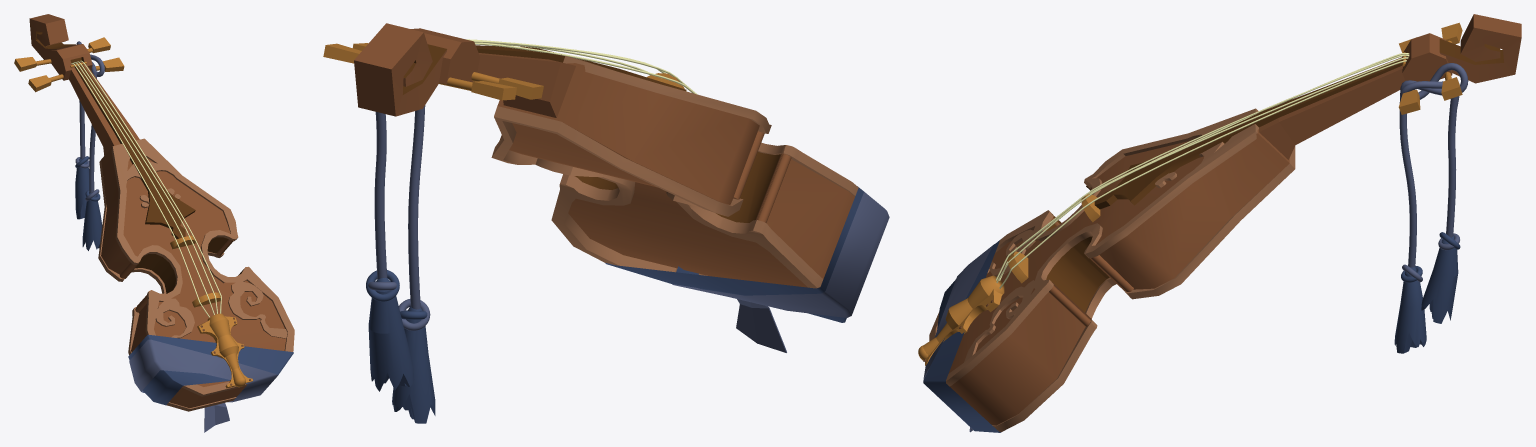
The model's file is violin.gltf.
3 renders of one model, left to right at view 1: azimuth 30°, elevation 25°; view 2: azimuth 150°, elevation 25°; view 3: azimuth 270°, elevation 25°, orthographic. The views are drawn at different scales.
Parts seen in each view (by area): view 1: object 18, object 25, object 31, object 22, object 26, object 29, object 19, object 30, object 21, object 27, object 20, object 10 (+12 smaller); view 2: object 18, object 27, object 21, object 31, object 19, object 7, object 25, object 29, object 10, object 16, object 20, object 15 (+8 smaller); view 3: object 18, object 25, object 19, object 22, object 21, object 27, object 29, object 16, object 7, object 10, object 20, object 26 (+9 smaller).
Part boxes in pixels (bbox=[...]): object 18: bbox=[101, 147, 286, 408]; object 25: bbox=[111, 138, 294, 396]; object 31: bbox=[129, 339, 277, 402]; object 22: bbox=[74, 62, 195, 238]; object 26: bbox=[155, 282, 287, 338]; object 29: bbox=[128, 334, 293, 374]; object 19: bbox=[69, 62, 139, 155]; object 30: bbox=[142, 370, 229, 405]; object 21: bbox=[29, 14, 75, 59]; object 27: bbox=[98, 160, 236, 411]; object 20: bbox=[49, 44, 92, 80]; object 10: bbox=[82, 192, 102, 250]; object 18: bbox=[497, 63, 854, 287]; object 27: bbox=[491, 106, 823, 288]; object 21: bbox=[354, 23, 447, 116]; object 31: bbox=[672, 189, 889, 317]; object 19: bbox=[477, 53, 575, 117]; object 7: bbox=[368, 278, 414, 391]; object 25: bbox=[520, 46, 858, 196]; object 29: bbox=[605, 186, 863, 295]; object 10: bbox=[392, 306, 435, 423]; object 16: bbox=[408, 105, 425, 309]; object 20: bbox=[411, 28, 479, 84]; object 15: bbox=[374, 112, 387, 279]; object 18: bbox=[948, 110, 1289, 425]; object 25: bbox=[929, 108, 1258, 386]; object 19: bbox=[1259, 57, 1405, 159]; object 22: bbox=[1094, 56, 1408, 209]; object 21: bbox=[1439, 14, 1521, 83]; object 27: bbox=[992, 146, 1295, 432]; object 29: bbox=[923, 240, 1000, 432]; object 16: bbox=[1399, 63, 1468, 267]; object 7: bbox=[1421, 235, 1458, 323]; object 10: bbox=[1394, 267, 1426, 353]; object 20: bbox=[1402, 33, 1452, 81]; object 26: bbox=[964, 229, 1035, 362].
Size of the model in its own units: 2.95 by 5.7 by 7.48.
